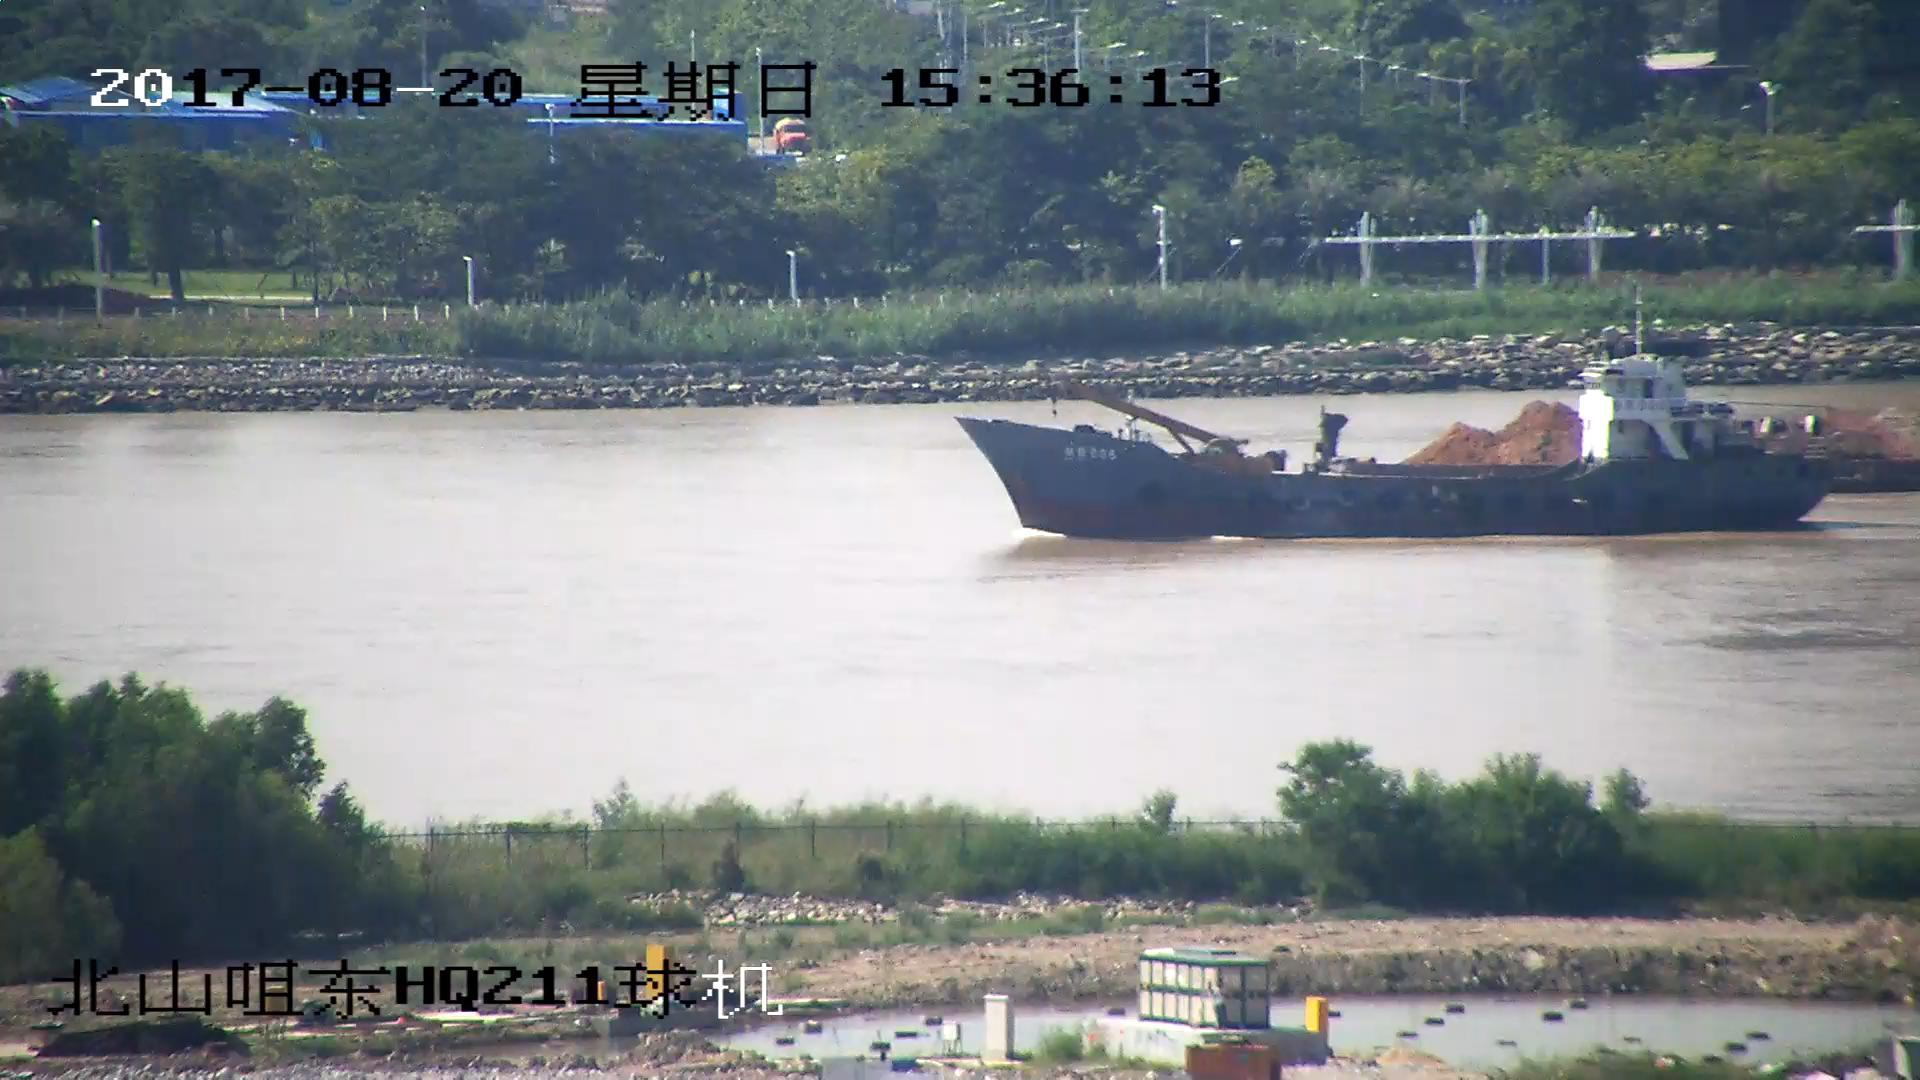Ship: (957, 289, 1841, 538), (1284, 385, 1920, 498)
